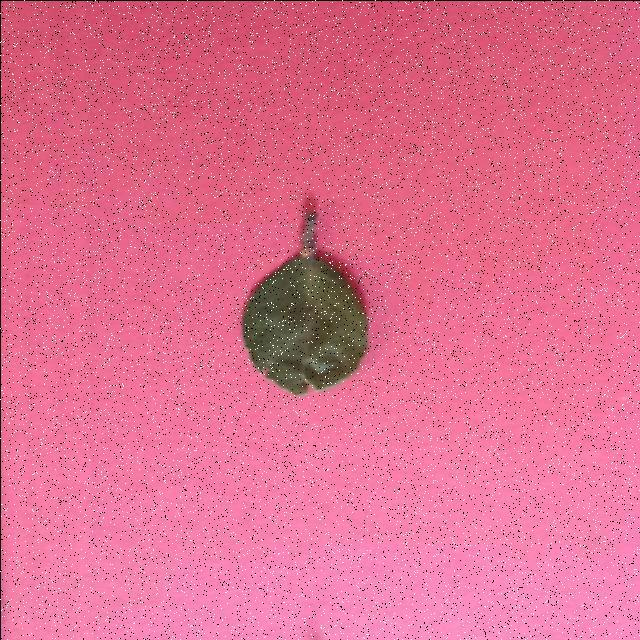foliage: (242, 205, 364, 395)
